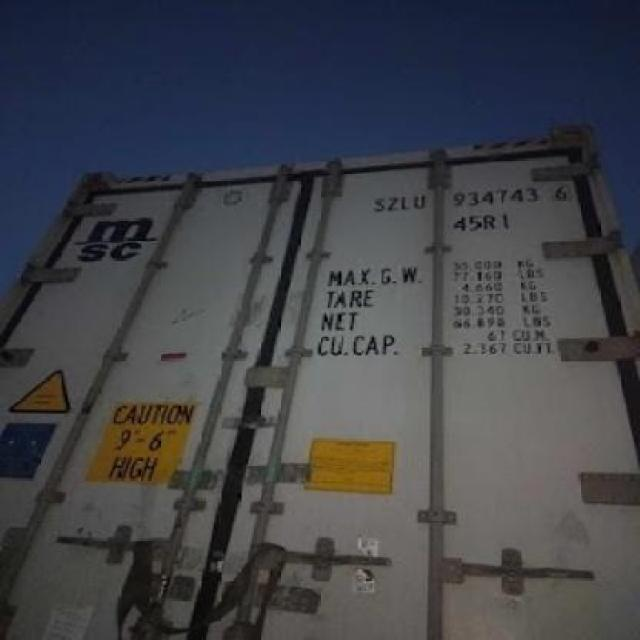ISO: (452, 211, 511, 234)
container_number: (375, 179, 578, 214)
